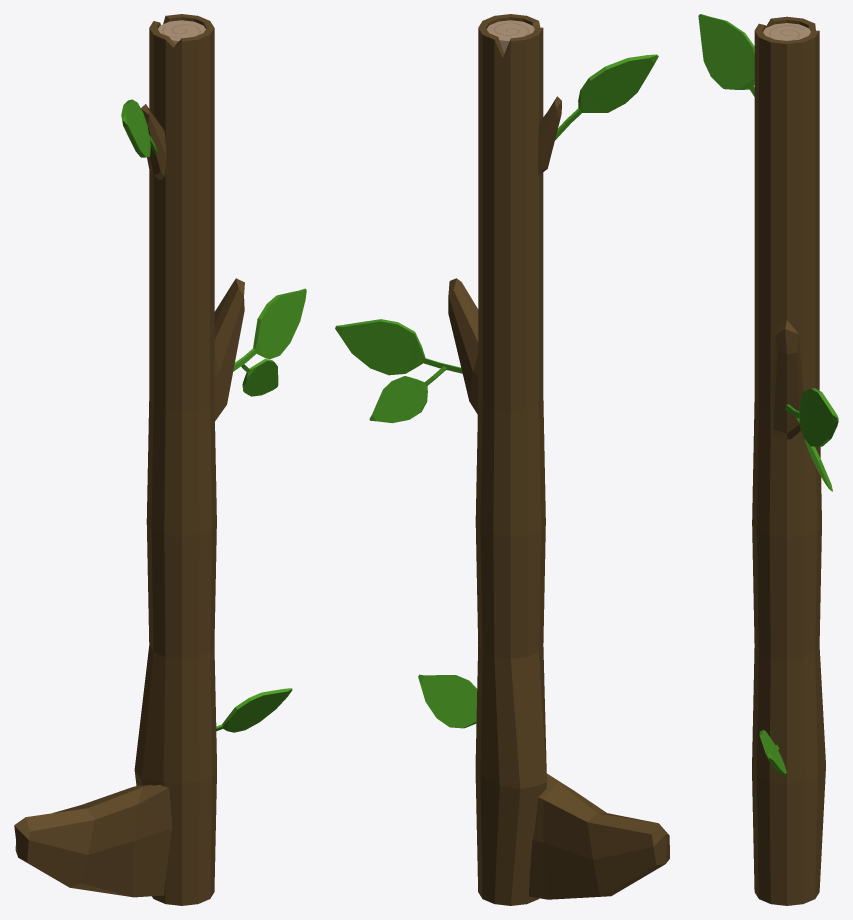
The model's file is PotiClub.glb.
3 renders of one model, left to right at view 1: azimuth 30°, elevation 25°; view 2: azimuth 150°, elevation 25°; view 3: azimuth 270°, elevation 25°, orthographic.
Visible parts, largest first — view 1: Círculo.005; view 2: Círculo.005; view 3: Círculo.005.
Part boxes in pixels (box(x1,y1,x2,y2)): Círculo.005: box(14, 14, 306, 905); Círculo.005: box(335, 14, 669, 905); Círculo.005: box(698, 14, 838, 905).
Bounding box in the file's own units: 3.44 × 9.11 × 1.35.
2 materials, 1 textured.
